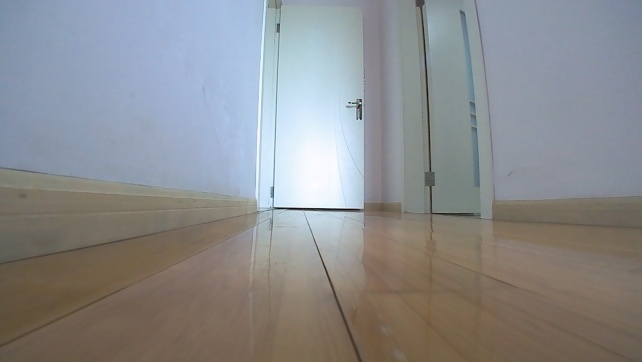door_anno: (258, 0, 368, 213), (400, 0, 481, 216)
